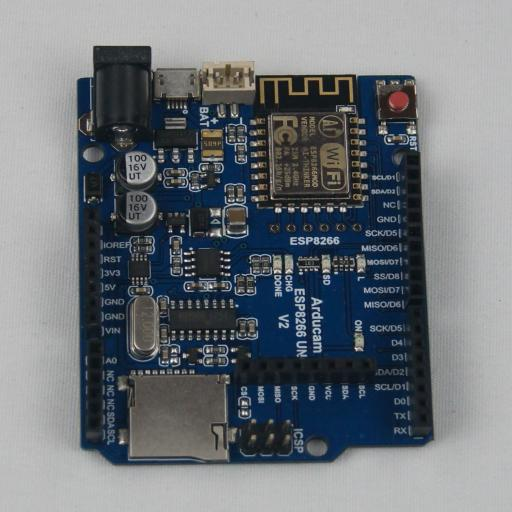Arduino Uno Camera Shield: (77, 46, 434, 465)
